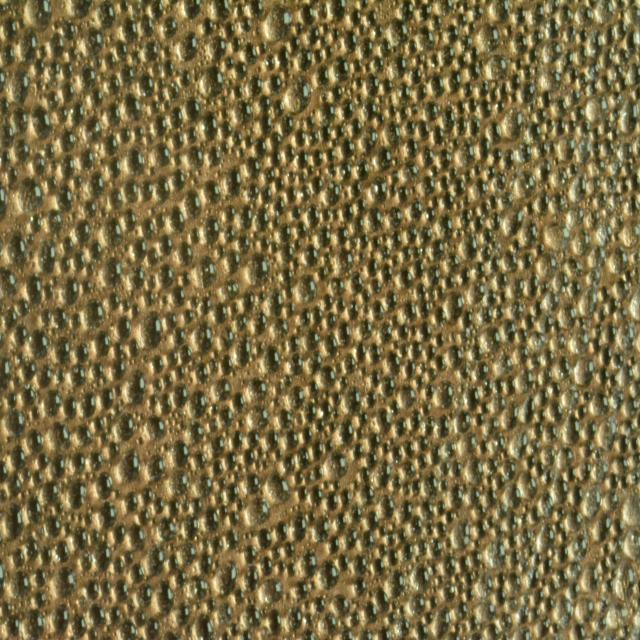dr: (265, 3, 293, 42), (285, 76, 312, 113), (17, 176, 44, 212), (138, 311, 163, 348), (10, 66, 32, 105), (617, 562, 637, 602), (266, 472, 290, 505), (216, 560, 238, 596), (543, 222, 570, 251), (100, 256, 123, 290), (193, 254, 216, 288), (246, 252, 269, 286), (25, 0, 51, 30), (201, 66, 225, 98), (620, 96, 640, 134), (36, 240, 58, 273), (124, 144, 146, 177), (5, 503, 24, 541), (443, 291, 466, 322), (478, 22, 500, 54), (502, 107, 524, 139), (125, 371, 145, 405), (246, 498, 270, 526), (31, 104, 50, 139), (101, 218, 123, 248), (586, 94, 608, 124), (574, 356, 596, 386), (54, 567, 76, 597), (193, 321, 214, 352), (504, 207, 525, 238), (538, 66, 563, 92), (234, 334, 253, 368), (156, 578, 173, 616), (122, 451, 142, 483), (598, 418, 618, 450), (29, 330, 50, 360), (261, 344, 282, 374), (477, 327, 501, 353), (7, 234, 27, 265), (178, 31, 198, 62), (48, 421, 70, 449), (83, 300, 104, 329), (318, 561, 339, 590), (83, 25, 103, 55), (232, 99, 252, 129), (578, 288, 598, 318), (145, 454, 165, 484), (486, 538, 506, 568), (410, 562, 430, 592), (146, 546, 166, 576), (416, 23, 434, 56), (325, 451, 347, 478), (23, 610, 45, 637), (59, 276, 80, 304), (4, 408, 24, 437), (330, 55, 350, 84), (389, 17, 409, 46), (24, 272, 42, 304), (584, 484, 600, 520), (259, 579, 283, 603), (513, 173, 535, 199), (123, 92, 142, 122), (0, 268, 19, 298), (117, 411, 136, 441), (623, 494, 640, 527), (558, 134, 578, 162), (246, 406, 270, 429), (84, 115, 103, 144), (77, 390, 96, 419), (358, 126, 377, 155), (342, 387, 361, 416), (11, 572, 32, 598), (453, 518, 470, 550), (300, 548, 317, 580), (95, 542, 112, 574), (184, 190, 202, 220), (488, 53, 508, 80), (569, 174, 587, 204), (64, 0, 92, 19), (456, 140, 475, 168), (434, 382, 453, 410), (519, 471, 538, 499), (19, 30, 37, 59), (384, 120, 402, 149), (42, 391, 62, 417), (399, 163, 419, 189), (318, 612, 338, 638), (96, 2, 115, 29), (87, 170, 106, 197), (69, 363, 88, 390), (297, 275, 316, 302), (563, 414, 579, 446), (201, 112, 218, 142), (202, 214, 219, 244), (423, 471, 440, 501), (466, 456, 483, 486), (246, 378, 268, 401), (267, 290, 285, 318), (336, 248, 354, 276), (369, 175, 387, 203), (617, 322, 635, 350), (185, 146, 205, 171), (593, 220, 613, 245), (25, 428, 45, 453), (194, 614, 214, 639), (226, 164, 242, 195), (462, 228, 477, 261), (538, 252, 557, 278), (607, 601, 626, 627), (127, 524, 146, 550), (96, 472, 113, 501), (121, 16, 139, 43), (374, 407, 392, 434), (555, 596, 573, 623), (207, 38, 227, 62), (374, 145, 394, 169), (542, 42, 562, 66), (587, 29, 603, 59), (69, 478, 85, 508), (594, 514, 611, 542), (624, 526, 638, 560), (52, 603, 69, 631), (171, 441, 190, 466), (189, 391, 208, 416), (169, 472, 188, 497), (99, 503, 118, 528), (12, 138, 30, 164), (183, 97, 201, 123), (323, 181, 341, 207), (572, 230, 590, 256), (158, 515, 176, 541), (170, 207, 186, 236), (435, 606, 451, 635), (595, 0, 615, 23), (589, 394, 609, 417), (188, 576, 208, 599), (572, 329, 589, 356), (147, 414, 166, 438), (298, 2, 317, 26), (557, 304, 576, 328), (0, 17, 18, 42), (11, 107, 29, 132), (468, 280, 486, 305), (625, 30, 640, 60), (398, 384, 416, 409), (27, 494, 42, 524), (583, 562, 598, 592), (374, 459, 389, 489), (218, 323, 234, 351), (336, 318, 352, 346), (390, 51, 406, 79), (623, 222, 639, 250), (338, 419, 354, 447), (478, 571, 494, 599), (388, 569, 404, 597), (267, 607, 283, 635), (56, 185, 73, 211), (173, 383, 190, 409), (318, 100, 335, 126), (366, 207, 383, 233), (183, 515, 200, 541), (203, 507, 220, 533), (212, 0, 232, 22), (574, 5, 594, 27), (566, 205, 586, 227), (87, 603, 106, 626), (224, 250, 242, 274), (384, 351, 402, 375), (502, 402, 518, 429), (576, 137, 592, 164), (556, 446, 574, 470), (538, 522, 554, 549), (195, 473, 213, 497), (448, 482, 464, 509), (179, 543, 197, 567), (78, 63, 95, 88), (74, 219, 91, 244), (110, 357, 127, 382), (590, 459, 607, 484), (378, 495, 395, 520), (285, 606, 302, 631), (255, 205, 270, 233), (572, 532, 587, 560), (245, 565, 260, 593), (292, 514, 306, 544), (246, 74, 265, 96), (551, 358, 570, 380), (36, 362, 52, 388), (54, 338, 70, 364), (520, 80, 536, 106), (536, 157, 552, 183), (464, 385, 480, 411), (540, 491, 556, 517), (375, 586, 391, 612), (153, 143, 171, 166), (203, 180, 221, 203), (188, 421, 206, 444), (272, 317, 290, 340), (446, 346, 464, 369), (115, 315, 133, 338), (242, 605, 260, 628), (167, 107, 184, 131), (401, 299, 418, 323), (504, 483, 521, 507), (552, 477, 569, 501), (136, 584, 153, 608), (0, 121, 15, 148), (48, 32, 63, 59), (156, 178, 171, 205), (106, 155, 122, 180), (182, 0, 202, 20), (158, 265, 174, 290), (437, 215, 453, 240), (511, 31, 527, 56), (530, 2, 546, 27), (380, 377, 399, 398), (128, 266, 146, 288), (490, 0, 508, 22), (548, 194, 566, 216), (551, 98, 569, 120), (550, 270, 568, 292), (629, 286, 640, 322), (576, 598, 594, 620), (477, 600, 495, 622), (626, 0, 640, 28), (47, 210, 64, 233), (103, 132, 120, 155), (319, 365, 336, 388), (551, 167, 568, 190), (581, 419, 598, 442), (70, 100, 85, 126), (139, 72, 154, 98), (522, 394, 535, 424), (314, 515, 329, 541), (59, 154, 75, 178), (59, 129, 75, 153), (98, 386, 114, 410), (316, 64, 332, 88), (218, 406, 234, 430), (396, 82, 412, 106), (455, 411, 471, 435), (522, 221, 538, 245), (613, 247, 629, 271), (10, 446, 26, 470), (619, 364, 635, 388), (174, 602, 190, 626), (46, 514, 62, 538), (561, 388, 580, 408), (42, 481, 60, 502), (564, 259, 582, 280), (363, 599, 378, 624), (72, 612, 87, 637), (59, 80, 76, 102), (138, 14, 155, 36), (288, 386, 305, 408), (589, 245, 606, 267), (541, 348, 558, 370), (120, 618, 137, 640), (107, 186, 123, 209), (94, 332, 110, 355), (330, 0, 346, 23), (308, 351, 324, 374), (558, 5, 574, 28), (622, 396, 638, 419), (409, 593, 425, 616), (352, 552, 368, 575), (253, 310, 267, 336), (365, 72, 378, 100), (430, 73, 444, 99), (441, 106, 455, 132), (398, 499, 412, 525), (302, 331, 321, 350), (0, 44, 15, 68), (123, 180, 138, 204), (243, 41, 258, 65), (247, 0, 265, 20), (212, 301, 227, 325), (252, 136, 267, 160), (297, 48, 312, 72), (518, 369, 533, 393), (73, 526, 88, 550), (157, 235, 174, 256), (302, 25, 319, 46), (491, 435, 508, 456), (530, 331, 547, 352), (332, 595, 349, 616), (120, 66, 136, 88), (52, 308, 68, 330), (79, 148, 95, 170), (50, 457, 66, 479), (222, 280, 238, 302), (388, 206, 404, 228), (462, 432, 478, 454), (0, 357, 11, 389), (218, 603, 234, 625), (244, 473, 260, 495), (627, 194, 640, 221), (302, 399, 316, 424), (447, 68, 461, 93), (431, 123, 445, 148), (72, 248, 87, 271), (153, 115, 168, 138), (178, 243, 193, 266), (359, 318, 374, 341), (445, 253, 460, 276), (198, 552, 213, 575), (258, 526, 273, 549), (55, 540, 70, 563), (0, 178, 8, 221), (514, 430, 527, 456), (2, 305, 16, 329), (130, 237, 146, 258), (258, 110, 272, 134), (306, 204, 320, 228), (288, 353, 304, 374), (325, 333, 339, 357), (280, 114, 294, 138), (398, 269, 414, 290), (528, 271, 540, 299), (543, 291, 559, 312), (546, 403, 562, 424), (63, 397, 77, 421), (436, 414, 450, 438), (508, 570, 522, 594), (498, 611, 514, 632), (25, 536, 39, 560), (61, 20, 76, 42), (106, 104, 121, 126), (21, 383, 36, 405), (355, 158, 370, 180), (362, 100, 377, 122), (488, 119, 503, 141), (473, 178, 488, 200), (509, 276, 524, 298), (568, 508, 583, 530), (114, 579, 129, 601), (241, 205, 254, 230), (354, 341, 367, 366), (434, 0, 452, 18), (614, 278, 631, 297), (602, 494, 619, 513), (90, 86, 104, 109), (141, 217, 155, 240), (409, 200, 423, 223), (570, 484, 584, 507), (360, 482, 374, 505), (309, 485, 323, 508), (142, 42, 158, 62), (216, 379, 232, 399), (316, 228, 332, 248), (21, 361, 36, 382), (163, 17, 178, 38), (78, 424, 93, 445), (267, 73, 282, 94), (276, 47, 291, 68), (349, 215, 364, 236), (474, 362, 489, 383), (7, 474, 22, 495), (499, 352, 512, 376), (429, 442, 442, 466), (114, 38, 128, 60), (74, 342, 88, 364), (359, 34, 373, 56), (384, 290, 398, 312), (427, 264, 441, 286), (415, 120, 429, 142), (518, 142, 532, 164), (610, 389, 624, 411), (454, 598, 468, 620), (344, 526, 358, 548), (88, 240, 104, 259), (330, 276, 346, 295), (617, 142, 633, 161), (82, 199, 97, 219), (233, 61, 248, 81), (302, 246, 317, 266), (277, 409, 292, 429), (404, 139, 419, 159), (479, 99, 494, 119), (504, 251, 519, 271), (534, 193, 549, 213), (574, 41, 586, 66), (628, 62, 640, 87), (502, 458, 517, 478), (428, 538, 443, 558), (5, 616, 20, 636), (123, 209, 136, 232), (344, 30, 357, 53), (343, 351, 356, 374), (14, 324, 28, 345), (106, 290, 120, 311), (91, 361, 105, 382), (272, 195, 286, 216), (424, 101, 438, 122), (440, 43, 454, 64), (349, 274, 363, 295), (513, 4, 527, 25), (560, 48, 574, 69), (542, 447, 556, 468), (360, 530, 374, 551), (194, 450, 208, 471), (225, 528, 239, 549), (130, 563, 144, 584), (0, 556, 7, 598), (482, 623, 499, 640), (339, 139, 355, 157), (513, 346, 529, 364), (543, 424, 559, 442), (612, 456, 628, 474), (0, 148, 11, 174), (160, 394, 173, 416), (166, 347, 179, 369), (247, 156, 260, 178), (259, 182, 272, 204), (409, 408, 422, 430), (603, 26, 616, 48), (145, 247, 160, 266), (590, 158, 605, 177), (466, 487, 481, 506), (31, 154, 45, 174), (71, 453, 85, 473), (171, 171, 185, 191), (246, 182, 260, 202), (170, 286, 184, 306), (211, 436, 225, 456), (348, 119, 362, 139), (421, 146, 435, 166), (430, 240, 444, 260), (477, 138, 491, 158), (528, 123, 542, 143), (511, 300, 525, 320), (539, 314, 553, 334), (587, 60, 601, 80), (401, 459, 415, 479), (349, 503, 363, 523), (294, 580, 308, 600), (556, 542, 568, 565), (528, 504, 540, 527), (443, 554, 455, 577), (179, 345, 192, 366), (468, 116, 481, 137), (459, 327, 472, 348), (503, 319, 516, 340), (504, 511, 517, 532), (260, 555, 273, 576), (585, 269, 601, 286), (15, 298, 30, 316), (149, 0, 164, 18), (421, 178, 436, 196), (172, 326, 186, 345), (195, 366, 209, 385), (280, 244, 294, 263), (418, 4, 432, 23), (418, 226, 432, 245), (394, 418, 408, 437), (530, 29, 544, 48), (313, 594, 327, 613), (380, 320, 392, 342), (405, 223, 417, 245), (527, 566, 538, 590), (232, 393, 244, 415), (224, 449, 236, 471), (86, 580, 98, 602), (106, 76, 119, 96), (318, 1, 331, 21), (278, 224, 291, 244), (266, 430, 279, 450), (284, 430, 297, 450), (335, 225, 348, 245), (341, 100, 354, 120), (446, 24, 459, 44), (368, 342, 381, 362), (438, 148, 451, 168), (409, 65, 422, 85), (536, 137, 549, 157), (545, 19, 558, 39), (230, 430, 243, 450), (415, 620, 428, 640), (397, 617, 410, 637), (325, 491, 338, 511), (125, 492, 138, 512), (470, 506, 486, 522), (486, 417, 501, 434), (615, 18, 626, 41), (130, 337, 142, 358), (398, 1, 412, 19), (472, 261, 486, 279), (546, 381, 560, 399), (566, 282, 580, 300), (297, 447, 309, 468), (572, 622, 586, 640), (275, 522, 289, 540), (210, 536, 224, 554), (145, 620, 159, 638), (0, 96, 10, 121), (130, 51, 143, 70), (131, 125, 144, 144), (165, 310, 178, 329), (283, 453, 296, 472), (520, 249, 533, 268), (599, 345, 612, 364), (421, 501, 434, 520), (483, 487, 496, 506), (244, 545, 257, 564), (312, 439, 323, 461), (30, 214, 42, 234), (270, 129, 282, 149), (285, 185, 297, 205), (296, 148, 308, 168), (312, 306, 324, 326), (342, 203, 354, 223), (420, 321, 432, 341), (606, 158, 622, 173), (243, 292, 255, 312), (320, 402, 332, 422), (402, 541, 414, 561), (568, 580, 580, 600), (556, 569, 568, 589), (537, 616, 549, 636), (226, 484, 238, 504), (114, 524, 126, 544), (80, 550, 92, 570), (12, 548, 24, 568), (34, 566, 46, 586), (247, 431, 261, 448), (366, 449, 380, 466), (365, 512, 379, 529), (201, 17, 214, 35), (69, 313, 82, 331), (238, 234, 251, 252), (371, 303, 384, 321), (414, 260, 427, 278), (461, 309, 474, 327), (480, 306, 493, 324), (535, 388, 548, 406), (601, 140, 614, 158), (615, 435, 628, 453), (568, 562, 581, 580), (354, 578, 367, 596), (34, 590, 47, 608), (56, 106, 68, 125), (168, 81, 180, 100), (208, 146, 220, 165), (152, 354, 164, 373), (224, 204, 236, 223), (283, 145, 295, 164), (379, 40, 391, 59), (367, 258, 379, 277), (381, 263, 393, 282), (434, 307, 446, 326), (597, 367, 609, 386), (211, 461, 223, 480), (372, 558, 384, 577), (516, 605, 528, 624), (442, 581, 454, 600), (112, 558, 124, 577), (339, 625, 354, 640), (0, 66, 8, 94), (235, 315, 249, 331), (616, 48, 630, 64), (45, 92, 58, 109), (242, 448, 255, 465), (442, 191, 455, 208), (466, 63, 479, 80), (436, 354, 449, 371), (598, 76, 611, 93), (607, 92, 620, 109), (610, 64, 623, 81), (415, 82, 426, 102), (459, 268, 470, 288), (503, 150, 514, 170), (39, 308, 51, 326), (140, 182, 152, 200), (273, 100, 285, 118), (307, 128, 319, 146), (222, 356, 234, 374), (312, 176, 324, 194), (340, 162, 352, 180), (459, 34, 471, 52), (453, 178, 465, 196), (490, 212, 502, 230), (493, 376, 505, 394), (514, 328, 526, 346), (601, 49, 613, 67), (606, 323, 618, 341), (606, 298, 618, 316), (0, 460, 9, 484), (107, 440, 119, 458), (296, 484, 308, 502), (301, 426, 313, 444), (611, 535, 623, 553), (626, 470, 638, 488), (390, 445, 402, 463), (410, 516, 422, 534), (444, 440, 456, 458), (515, 628, 533, 640), (495, 588, 507, 606), (284, 540, 296, 558), (167, 498, 179, 516), (141, 487, 153, 505), (168, 554, 180, 572), (134, 609, 146, 627), (100, 579, 112, 597), (40, 546, 52, 564), (408, 343, 422, 358), (528, 441, 542, 456), (620, 420, 635, 434), (143, 289, 154, 308), (367, 8, 378, 27), (300, 309, 311, 328), (347, 300, 358, 319), (371, 276, 382, 295), (579, 462, 590, 481), (458, 363, 469, 382), (417, 452, 428, 471), (328, 535, 339, 554), (340, 488, 351, 507), (338, 553, 349, 572), (176, 569, 187, 588), (46, 176, 59, 192), (240, 18, 253, 34), (379, 247, 392, 263), (358, 466, 371, 482), (415, 283, 428, 299), (470, 345, 483, 361), (403, 361, 416, 377), (89, 454, 102, 470), (606, 476, 619, 492), (626, 454, 639, 470), (422, 418, 435, 434), (43, 142, 55, 159), (119, 127, 131, 144), (93, 417, 105, 434), (179, 68, 191, 85), (58, 256, 70, 273), (294, 129, 306, 146), (368, 432, 380, 449), (460, 212, 472, 229), (36, 452, 48, 469), (493, 472, 505, 489), (138, 509, 150, 526), (110, 607, 122, 624), (373, 54, 383, 74), (271, 147, 281, 167), (392, 230, 402, 250), (488, 85, 498, 105), (543, 555, 553, 575), (186, 126, 197, 144), (232, 129, 243, 147), (201, 297, 212, 315), (321, 124, 332, 142), (263, 164, 274, 182), (353, 442, 364, 460), (455, 117, 466, 135), (482, 226, 493, 244), (565, 27, 576, 45), (595, 614, 606, 632), (545, 596, 556, 614), (233, 586, 244, 604), (465, 98, 479, 112), (500, 192, 514, 206), (599, 284, 612, 299), (62, 62, 74, 78), (220, 123, 232, 139), (273, 175, 285, 191), (284, 302, 296, 318), (322, 295, 334, 311), (334, 297, 346, 313), (418, 300, 430, 316), (486, 458, 498, 474), (606, 176, 618, 192), (612, 194, 624, 210), (520, 527, 532, 543), (581, 442, 593, 458), (190, 498, 202, 514), (435, 521, 447, 537), (358, 628, 374, 640), (153, 499, 165, 515), (300, 184, 310, 203), (479, 200, 489, 219), (604, 577, 614, 596), (105, 53, 116, 70), (173, 132, 184, 149), (223, 227, 234, 244), (350, 182, 361, 199), (365, 392, 376, 409), (505, 379, 516, 396), (523, 313, 534, 330), (577, 73, 588, 90), (535, 461, 546, 478), (403, 441, 414, 458), (387, 548, 398, 565), (632, 138, 640, 161), (418, 402, 431, 416), (545, 0, 559, 13), (608, 213, 622, 226), (616, 626, 629, 640), (378, 626, 391, 640), (257, 626, 270, 640), (62, 237, 74, 252), (156, 211, 166, 229), (265, 53, 275, 71), (180, 270, 190, 288), (190, 226, 200, 244), (313, 46, 323, 64), (398, 186, 408, 204), (463, 81, 473, 99), (529, 47, 539, 65), (525, 200, 535, 218), (554, 120, 566, 135), (568, 89, 580, 104), (417, 536, 427, 554), (470, 551, 482, 566), (468, 616, 480, 631), (289, 35, 300, 51), (42, 281, 53, 297), (208, 357, 219, 373), (332, 86, 343, 102), (351, 10, 362, 26), (308, 380, 319, 396), (472, 4, 483, 20), (498, 83, 509, 99), (481, 245, 492, 261), (481, 383, 492, 399), (478, 440, 489, 456), (532, 300, 543, 316), (490, 255, 501, 271), (565, 68, 576, 84), (612, 519, 623, 535), (397, 528, 408, 544), (476, 522, 487, 538), (507, 597, 518, 613), (336, 513, 347, 529), (390, 398, 399, 417), (160, 631, 179, 640), (297, 222, 307, 239), (373, 23, 383, 40), (370, 370, 380, 387), (478, 79, 488, 96), (510, 73, 520, 90), (524, 62, 534, 79), (473, 213, 483, 230), (534, 588, 544, 605), (458, 555, 468, 572), (217, 141, 230, 154), (112, 343, 124, 357), (258, 96, 270, 110), (281, 270, 293, 284), (556, 334, 568, 348), (608, 110, 620, 124), (304, 614, 316, 628), (178, 500, 190, 514), (33, 60, 44, 75), (163, 60, 174, 75), (224, 55, 235, 70), (456, 13, 467, 28), (496, 272, 507, 287), (590, 179, 601, 194), (418, 436, 429, 451), (455, 580, 466, 595), (489, 192, 498, 210), (631, 173, 640, 191), (150, 100, 160, 116), (225, 23, 235, 39), (306, 112, 316, 128), (284, 282, 294, 298), (313, 150, 323, 166), (318, 266, 328, 282), (274, 381, 284, 397), (335, 120, 343, 140), (402, 246, 412, 262), (405, 119, 415, 135), (436, 332, 446, 348), (497, 173, 507, 189), (539, 281, 549, 297), (624, 162, 634, 178), (596, 306, 606, 322), (228, 299, 238, 315), (32, 472, 42, 488), (391, 475, 401, 491), (547, 578, 557, 594), (509, 550, 519, 566), (313, 466, 323, 482), (271, 544, 281, 560), (256, 41, 269, 53), (532, 424, 544, 437), (596, 195, 608, 208), (303, 628, 316, 640), (359, 233, 370, 247), (424, 209, 435, 223), (439, 174, 450, 188), (425, 344, 436, 358), (485, 165, 496, 179), (485, 290, 496, 304), (580, 120, 591, 134), (7, 394, 18, 408), (331, 392, 342, 406), (0, 601, 11, 615), (399, 104, 408, 121), (415, 373, 424, 390), (260, 235, 269, 252), (600, 557, 609, 574), (50, 64, 60, 79), (56, 371, 66, 386), (163, 372, 173, 387), (382, 78, 392, 93), (375, 111, 385, 126), (397, 324, 407, 339), (356, 200, 366, 215), (425, 383, 435, 398), (578, 28, 588, 43), (536, 409, 546, 424), (592, 142, 602, 157), (630, 248, 640, 263), (485, 515, 495, 530), (465, 586, 475, 601), (533, 552, 543, 567), (411, 478, 421, 493), (350, 612, 360, 627), (190, 294, 199, 310), (290, 337, 299, 353), (433, 14, 442, 30), (457, 52, 466, 68), (545, 119, 554, 135), (566, 121, 578, 133), (592, 126, 604, 138), (620, 176, 629, 192), (506, 532, 515, 548), (445, 631, 461, 640), (219, 504, 228, 520), (68, 46, 78, 60), (163, 44, 173, 58), (146, 276, 156, 290), (322, 209, 332, 223), (327, 314, 337, 328), (371, 234, 381, 248), (427, 368, 437, 382), (536, 109, 546, 123), (540, 93, 550, 107), (531, 354, 541, 368), (574, 108, 584, 122), (624, 270, 634, 284), (22, 468, 32, 482), (294, 471, 304, 485), (440, 462, 450, 476), (452, 462, 462, 476), (496, 571, 506, 585), (464, 572, 474, 586), (215, 490, 225, 504), (126, 599, 136, 613), (387, 529, 395, 546), (8, 169, 17, 184), (464, 169, 473, 184), (610, 553, 619, 568), (378, 543, 387, 558), (156, 90, 167, 102), (351, 59, 362, 71), (31, 406, 41, 419), (294, 23, 304, 36), (287, 172, 297, 185), (291, 207, 301, 220), (327, 165, 337, 178), (331, 29, 341, 42), (338, 376, 348, 389), (356, 426, 366, 439), (474, 412, 484, 425), (495, 307, 505, 320), (512, 239, 522, 252), (568, 162, 578, 175), (525, 457, 535, 470), (566, 467, 576, 480), (470, 630, 483, 640), (206, 598, 216, 611), (16, 350, 24, 366), (593, 337, 601, 353), (316, 417, 324, 433), (600, 596, 608, 612), (456, 100, 465, 114), (446, 276, 455, 290), (551, 620, 560, 634), (230, 510, 239, 524), (90, 529, 99, 543), (635, 329, 640, 354), (132, 3, 142, 15), (122, 300, 132, 312), (232, 86, 242, 98), (322, 21, 332, 33), (555, 519, 563, 534), (618, 308, 628, 320), (438, 500, 446, 515), (276, 560, 286, 572), (88, 628, 98, 640), (231, 39, 240, 52), (234, 3, 243, 16), (589, 81, 598, 94), (619, 80, 628, 93), (613, 353, 622, 366), (401, 483, 410, 496), (439, 478, 448, 491), (429, 561, 438, 574), (230, 623, 239, 636), (125, 551, 134, 564), (0, 326, 5, 349), (611, 126, 619, 140), (526, 543, 534, 557), (556, 506, 564, 520), (630, 439, 638, 453), (332, 478, 340, 492), (288, 562, 296, 576), (148, 395, 158, 406), (359, 0, 369, 11), (153, 380, 162, 392), (184, 312, 193, 324), (359, 412, 368, 424), (412, 246, 421, 258), (602, 544, 611, 556), (381, 443, 390, 455), (425, 612, 434, 624), (325, 438, 333, 451), (603, 632, 616, 640), (493, 150, 503, 160), (448, 166, 457, 177), (446, 511, 455, 522), (220, 631, 231, 640), (320, 36, 328, 48), (326, 149, 334, 161), (275, 450, 283, 462), (389, 104, 397, 116), (332, 407, 340, 419), (425, 522, 433, 534), (428, 595, 436, 607), (388, 611, 396, 623), (378, 526, 386, 538), (84, 512, 92, 524), (591, 631, 601, 640), (531, 608, 540, 618), (241, 631, 251, 640), (326, 47, 334, 58), (329, 422, 337, 432)
